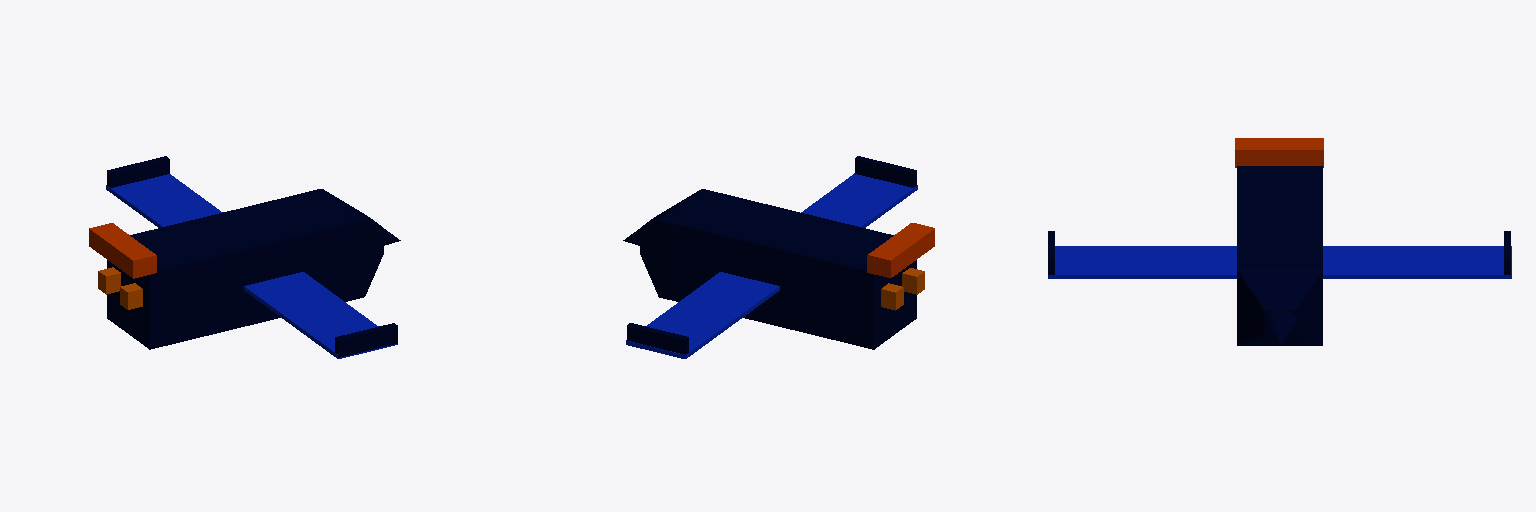
File: bird.obj
3 views of the same model, side by side, from view 1: azimuth 30°, elevation 25°; view 2: azimuth 150°, elevation 25°; view 3: azimuth 270°, elevation 25° (orthographic).
Parts seen in each view (by area): view 1: Cube, Cube.001, Cube.004, Cube.002, Cube.003, Cube.005, Cube.006; view 2: Cube, Cube.001, Cube.004, Cube.002, Cube.003, Cube.006; view 3: Cube, Cube.001, Cube.004.
Part boxes in pixels (bbox=[...]): Cube: bbox=[107, 189, 400, 349]; Cube.001: bbox=[106, 174, 397, 358]; Cube.004: bbox=[89, 223, 156, 278]; Cube.002: bbox=[335, 323, 397, 357]; Cube.003: bbox=[107, 156, 169, 187]; Cube.005: bbox=[120, 283, 142, 309]; Cube.006: bbox=[98, 267, 120, 294]; Cube: bbox=[623, 189, 916, 349]; Cube.001: bbox=[626, 173, 917, 358]; Cube.004: bbox=[867, 223, 934, 277]; Cube.002: bbox=[855, 156, 916, 187]; Cube.003: bbox=[627, 323, 688, 354]; Cube.006: bbox=[881, 283, 903, 310]; Cube: bbox=[1237, 166, 1322, 345]; Cube.001: bbox=[1048, 246, 1511, 278]; Cube.004: bbox=[1235, 138, 1323, 167].
Bounding box in the file's own units: 2.34 × 0.723 × 3.24.